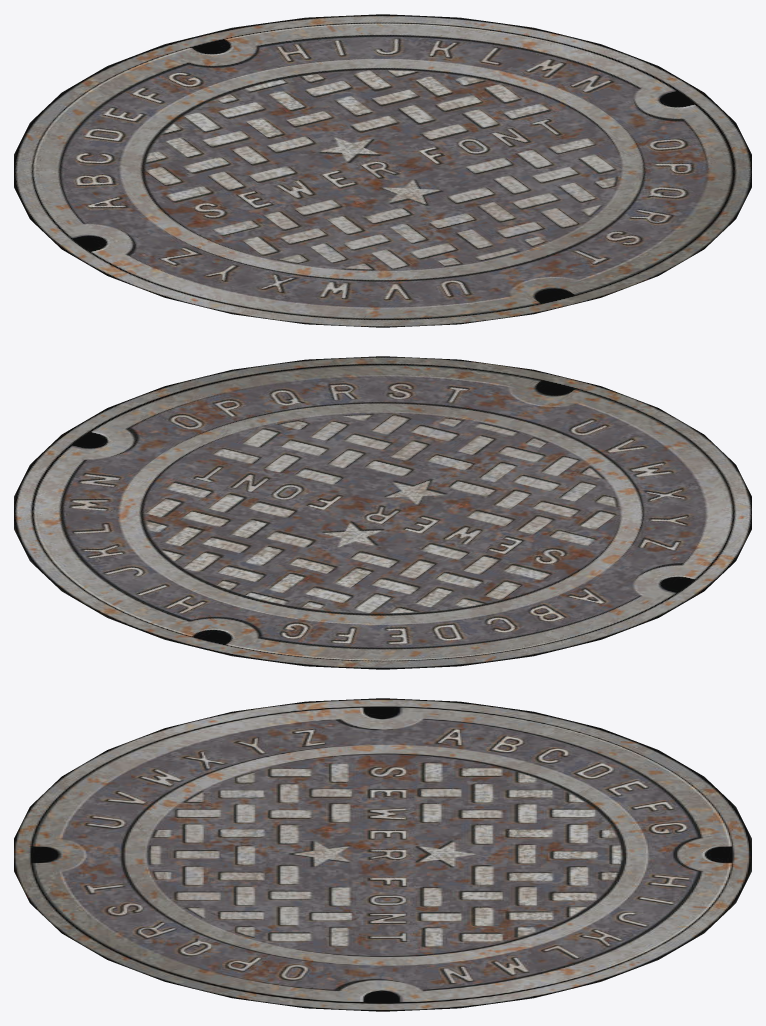
File: sewermd1.fbx
3 renders of one model, top to bottom at view 1: azimuth 30°, elevation 25°; view 2: azimuth 150°, elevation 25°; view 3: azimuth 270°, elevation 25°, orthographic.
Visible parts, largest first — view 1: Disc; view 2: Disc; view 3: Disc.
Boxes of the visible parts, x1,y1,x2,y2 form: Disc: (14,14,751,327); Disc: (14,356,751,669); Disc: (14,698,751,1011).
Size of the model in its own units: 200 by 0 by 199.
Materials: 1 (1 with a texture image).
